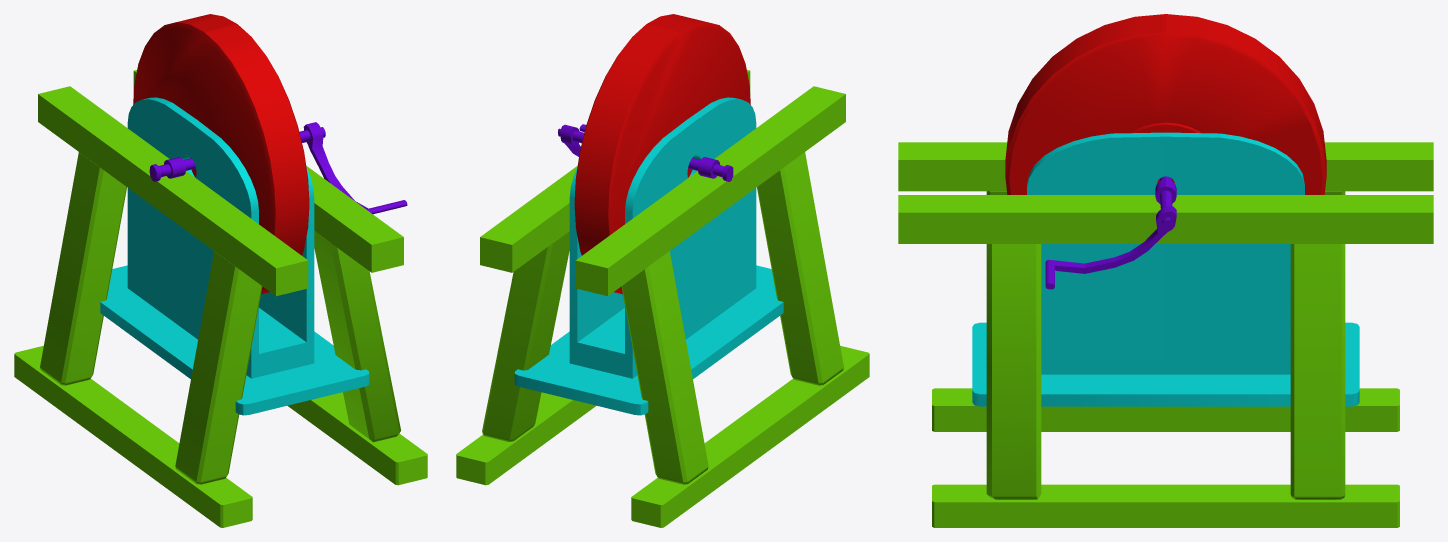
The model's file is SM_grindingWheel.fbx.
The picture shows the model from 3 angles, left to right: view 1: azimuth 30°, elevation 25°; view 2: azimuth 150°, elevation 25°; view 3: azimuth 270°, elevation 25°; orthographic projection. The views are drawn at different scales.
Parts seen in each view (by area): view 1: Cube.010; view 2: Cube.010; view 3: Cube.010.
Boxes of the visible parts, x1,y1,x2,y2 form: Cube.010: (14, 14, 427, 527); Cube.010: (456, 14, 869, 527); Cube.010: (898, 14, 1433, 527).
Size of the model in its own units: 86.43 by 139 by 151.
